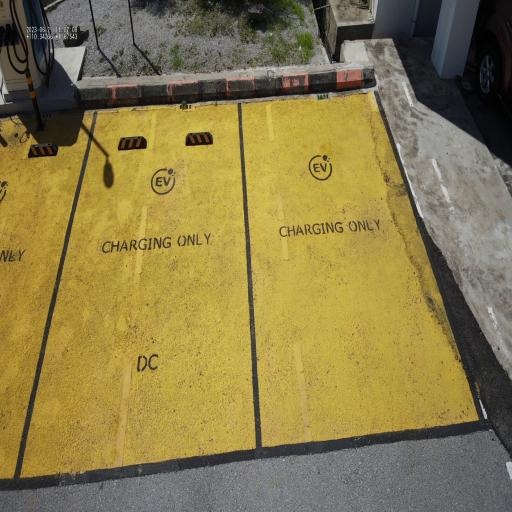Empty: (9, 79, 268, 501), (230, 76, 495, 465)
